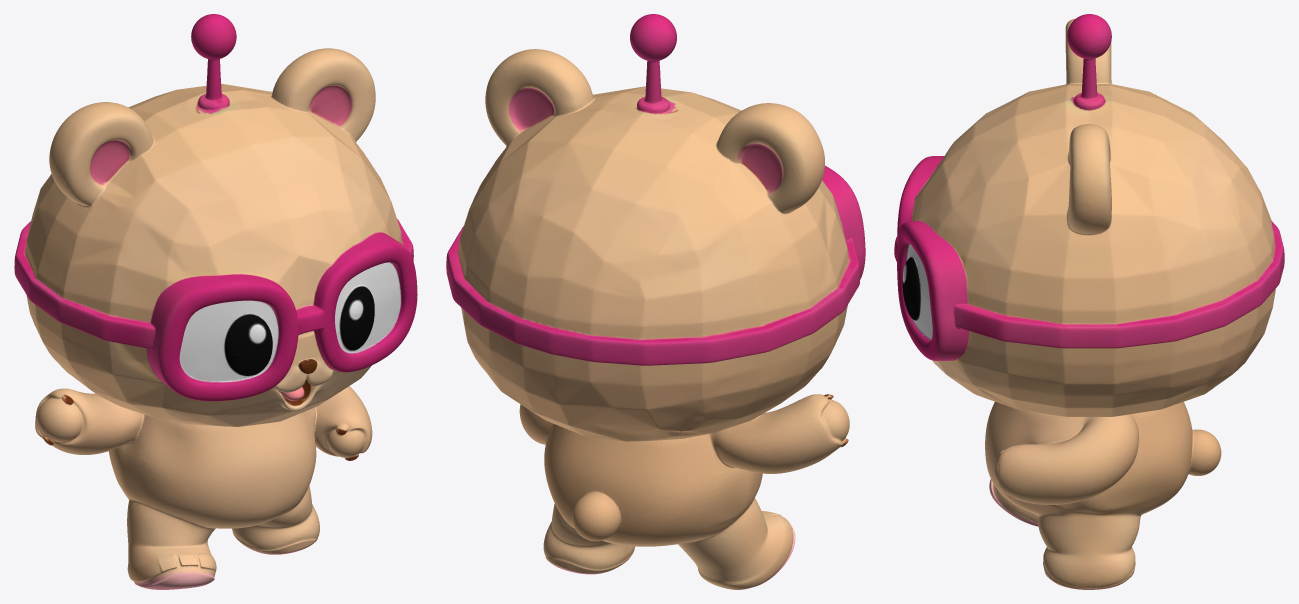
Rendered from remote-bear.glb.
The picture shows the model from 3 angles, left to right: view 1: azimuth 30°, elevation 25°; view 2: azimuth 150°, elevation 25°; view 3: azimuth 270°, elevation 25°; orthographic projection. The views are drawn at different scales.
Parts seen in each view (by area): view 1: Mesh_0; view 2: Mesh_0; view 3: Mesh_0.
Part boxes in pixels (box(x1,y1,x2,y2)): Mesh_0: box(14, 14, 417, 589); Mesh_0: box(446, 14, 865, 589); Mesh_0: box(894, 14, 1284, 589).
Bounding box in the file's own units: 0.6107 × 0.9 × 0.5974.
1 material, 1 textured.
